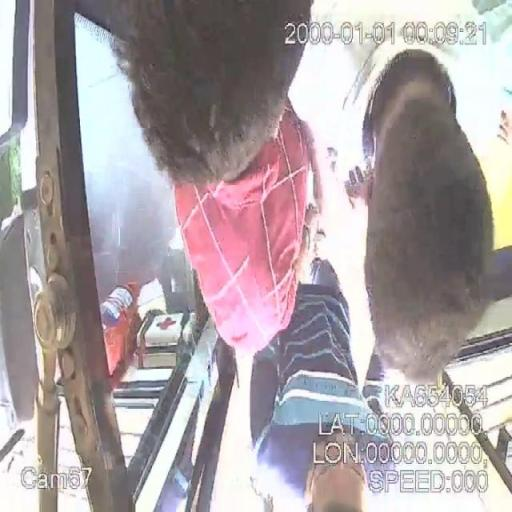persona: (109, 0, 326, 358), (341, 0, 501, 378), (244, 256, 398, 512)
